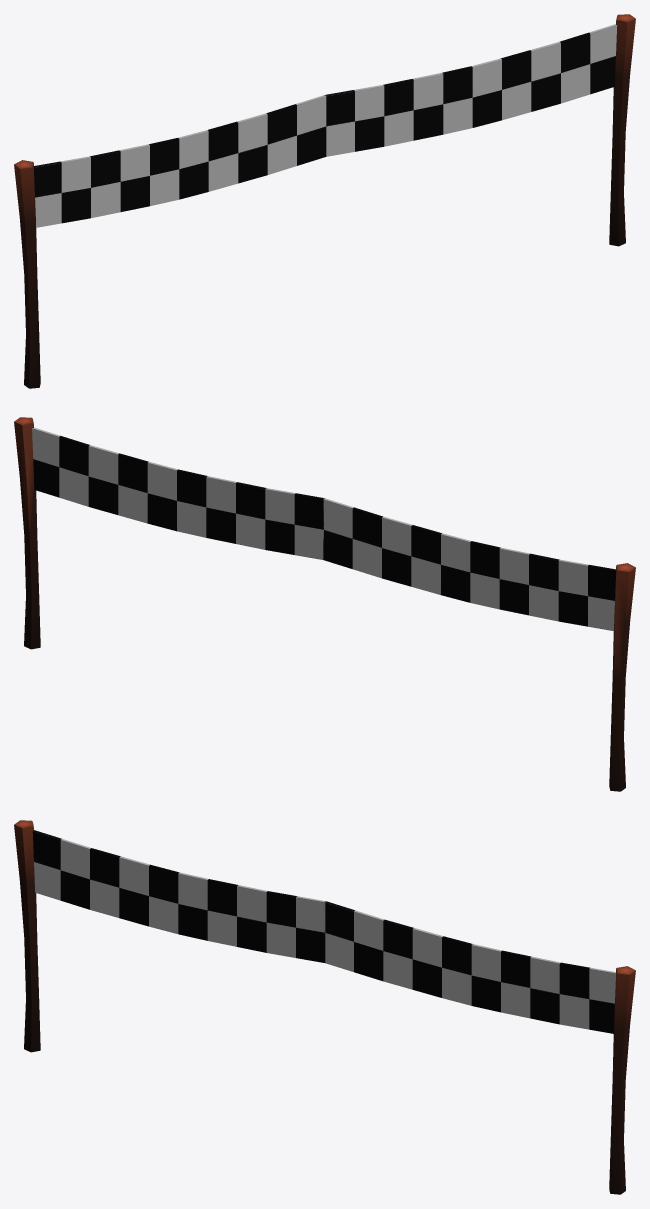
The model's file is Extended-Finish_Line.fbx.
The picture shows the model from 3 angles, top to bottom: view 1: azimuth 30°, elevation 25°; view 2: azimuth 150°, elevation 25°; view 3: azimuth 330°, elevation 25°; orthographic projection.
Parts seen in each view (by area): view 1: pasted__polySurface8; view 2: pasted__polySurface8; view 3: pasted__polySurface8.
Boxes of the visible parts, x1,y1,x2,y2 form: pasted__polySurface8: (14, 14, 635, 388); pasted__polySurface8: (14, 417, 635, 791); pasted__polySurface8: (14, 820, 635, 1194).
Size of the model in its own units: 2117 by 733 by 60.35.
2 materials, 2 textured.
